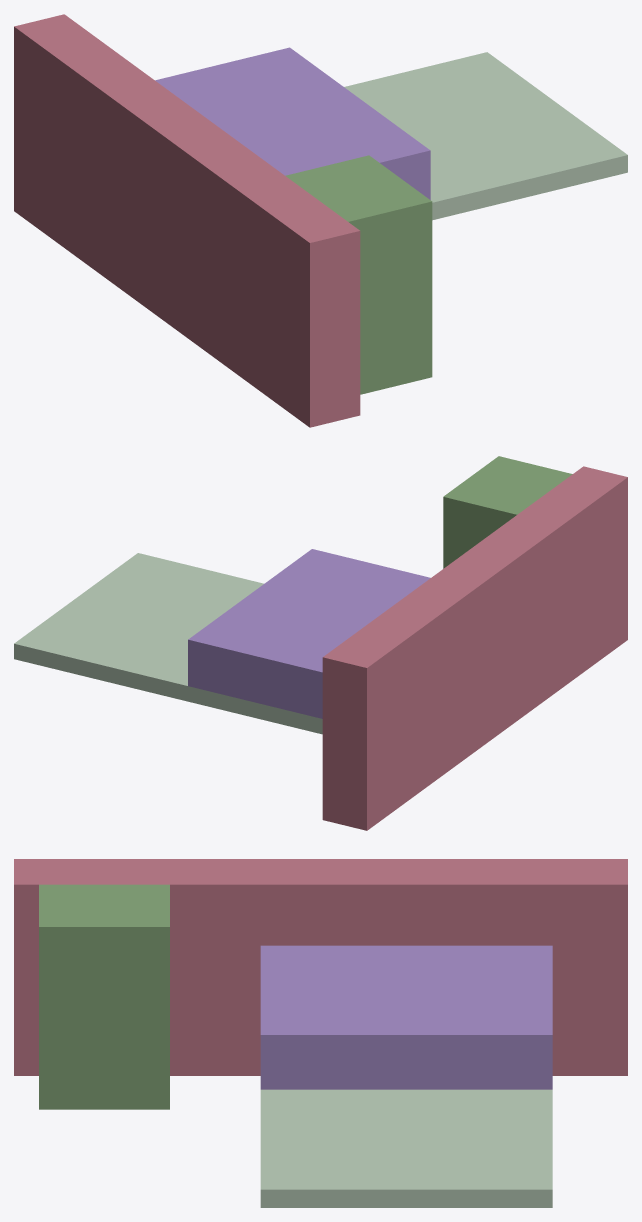
3 views of the same model, one above another, from view 1: azimuth 30°, elevation 25°; view 2: azimuth 150°, elevation 25°; view 3: azimuth 270°, elevation 25° (orthographic). The views are drawn at different scales.
Parts seen in each view (by area): view 1: world; view 2: world; view 3: world.
Part boxes in pixels (x1,y1,x2,y2): world: (14, 14, 627, 427); world: (14, 456, 627, 830); world: (14, 859, 627, 1207).
Bounding box in the file's own units: 5.2 × 2.1 × 6.1.
